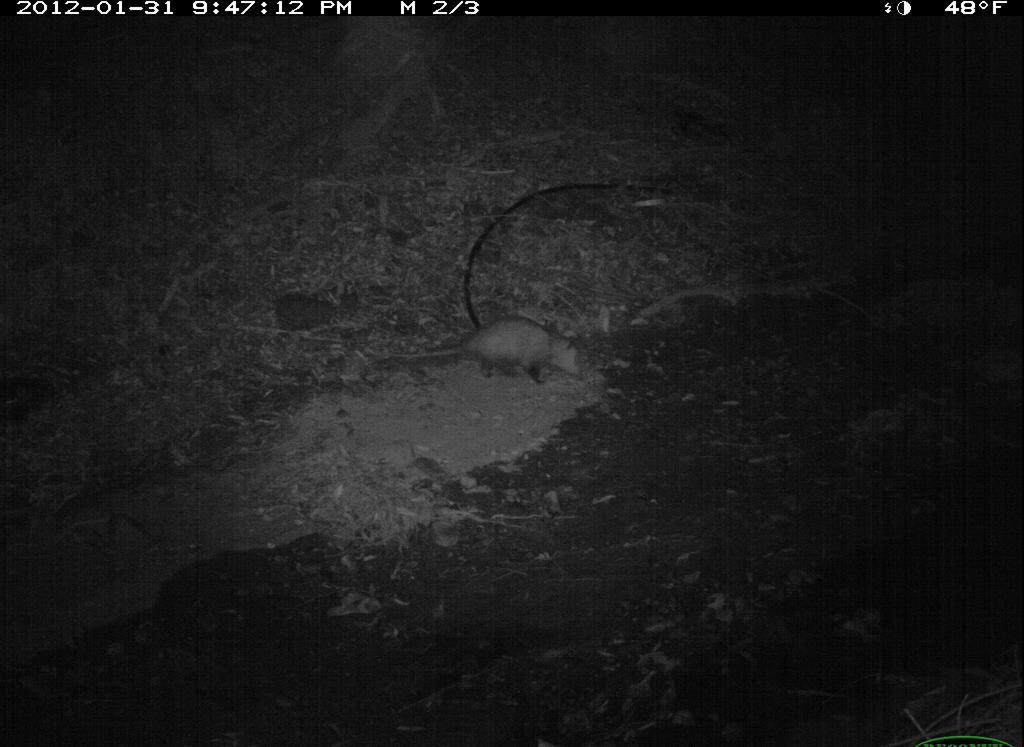opossum: (355, 309, 595, 399)
